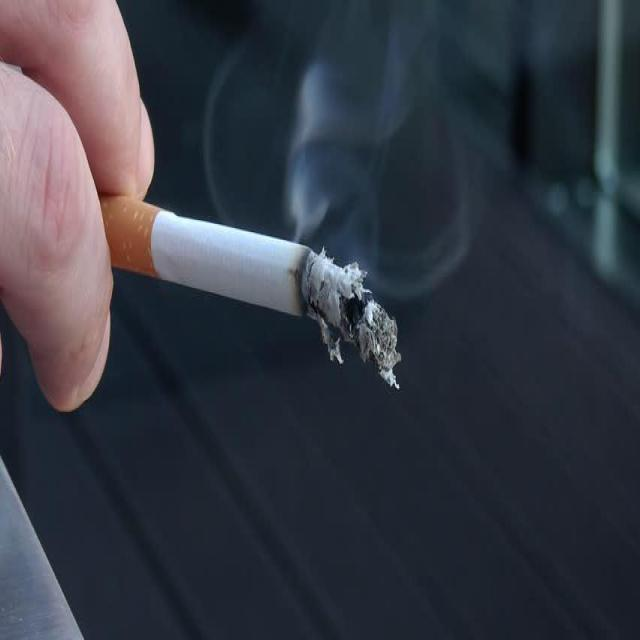rokok: (70, 192, 410, 352)
